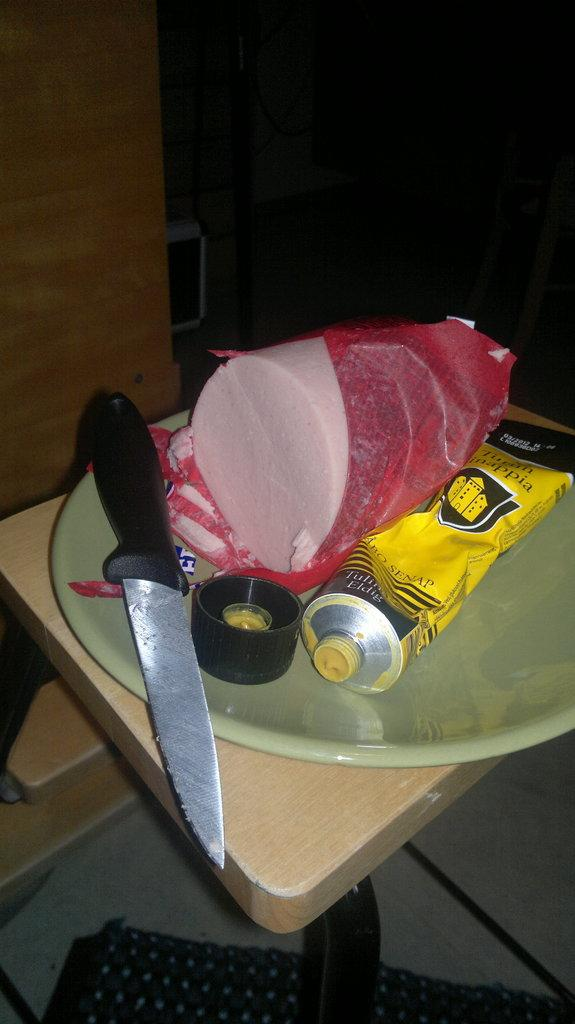knife: (76, 375, 230, 874)
